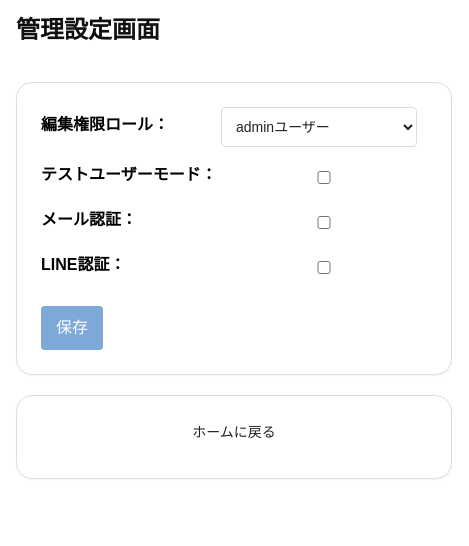
RootSetting › 保存 非200：メッセージ「保存に失敗しました。」、dirty 継続（enabled のまま）
Select "ルートユーザー" in the dropdown at (319, 127), box [221, 107, 417, 147]
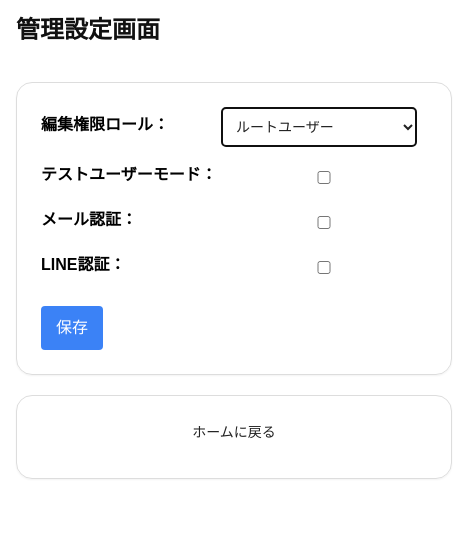
Click the button "保存" at (72, 328), box [41, 306, 103, 350]
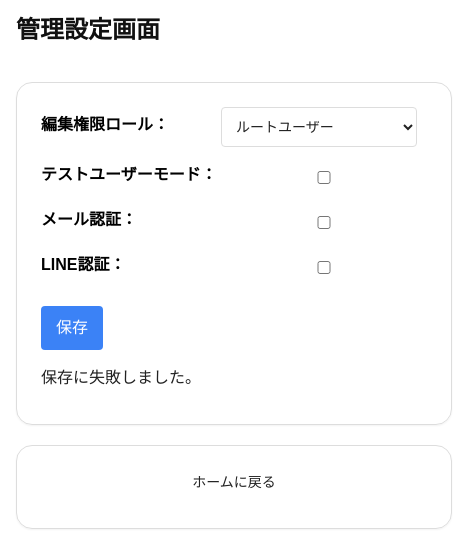
Result: the button "保存" is enabled at [41, 306, 103, 350]
Result: the text "保存に失敗しました。" is shown at [41, 369, 201, 386]
